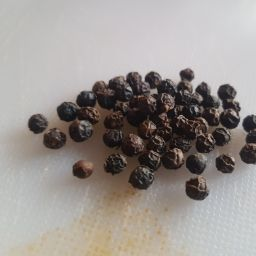Pepper corns: (28, 62, 256, 206), (82, 91, 256, 181)
